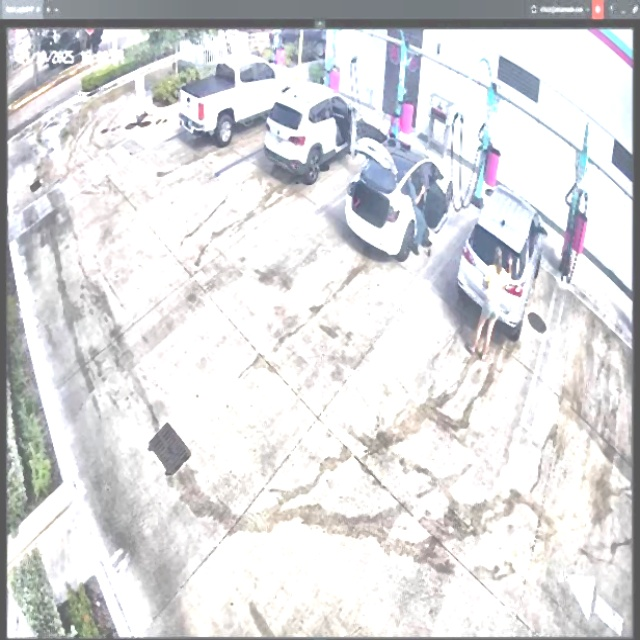Car: (458, 185, 547, 342), (343, 137, 453, 261), (262, 80, 366, 181)
